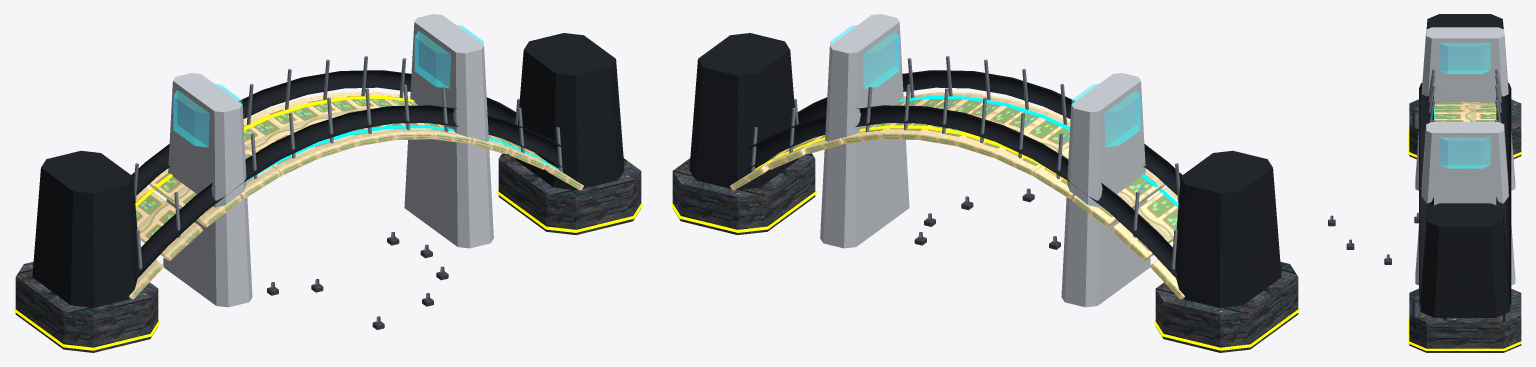
The model's file is interior_setpiece_01_r1_01.glb.
The picture shows the model from 3 angles, left to right: view 1: azimuth 30°, elevation 25°; view 2: azimuth 150°, elevation 25°; view 3: azimuth 270°, elevation 25°; orthographic projection. The views are drawn at different scales.
Parts seen in each view (by area): view 1: Setpiece01_C01_gunmetal, Setpiece01_C01_aero_white, Setpiece01_C01_cliff_basalt, Setpiece01_C01_promenade_paving, Setpiece01_C01_glass_cyan, Setpiece01_C01_steel_machined, Setpiece01_C01_led_amber, Setpiece01_C01_led_cyan; view 2: Setpiece01_C01_gunmetal, Setpiece01_C01_aero_white, Setpiece01_C01_cliff_basalt, Setpiece01_C01_promenade_paving, Setpiece01_C01_glass_cyan, Setpiece01_C01_steel_machined, Setpiece01_C01_led_amber, Setpiece01_C01_led_cyan; view 3: Setpiece01_C01_aero_white, Setpiece01_C01_gunmetal, Setpiece01_C01_cliff_basalt, Setpiece01_C01_glass_cyan, Setpiece01_C01_promenade_paving, Setpiece01_C01_steel_machined, Setpiece01_C01_led_amber.
Part boxes in pixels (box(x1,y1,x2,y2)): Setpiece01_C01_gunmetal: box(32, 33, 624, 307); Setpiece01_C01_aero_white: box(163, 14, 493, 307); Setpiece01_C01_cliff_basalt: box(15, 153, 641, 352); Setpiece01_C01_promenade_paving: box(129, 92, 583, 299); Setpiece01_C01_glass_cyan: box(173, 25, 483, 147); Setpiece01_C01_steel_machined: box(134, 56, 562, 322); Setpiece01_C01_led_amber: box(14, 96, 642, 350); Setpiece01_C01_led_cyan: box(246, 125, 558, 181); Setpiece01_C01_gunmetal: box(689, 33, 1281, 307); Setpiece01_C01_aero_white: box(820, 14, 1150, 307); Setpiece01_C01_cliff_basalt: box(672, 153, 1298, 352); Setpiece01_C01_promenade_paving: box(730, 92, 1184, 299); Setpiece01_C01_glass_cyan: box(830, 25, 1140, 147); Setpiece01_C01_steel_machined: box(751, 56, 1179, 274); Setpiece01_C01_led_amber: box(671, 125, 1299, 350); Setpiece01_C01_led_cyan: box(899, 96, 1178, 207); Setpiece01_C01_aero_white: box(1415, 27, 1515, 285); Setpiece01_C01_gunmetal: box(1419, 14, 1511, 317); Setpiece01_C01_cliff_basalt: box(1328, 99, 1521, 352); Setpiece01_C01_glass_cyan: box(1439, 43, 1490, 168); Setpiece01_C01_promenade_paving: box(1434, 102, 1495, 121); Setpiece01_C01_steel_machined: box(1330, 69, 1501, 258); Setpiece01_C01_led_amber: box(1408, 106, 1521, 350).
Bounding box in the file's own units: 67.2 × 22 × 24.25.
8 materials, 8 textured.
